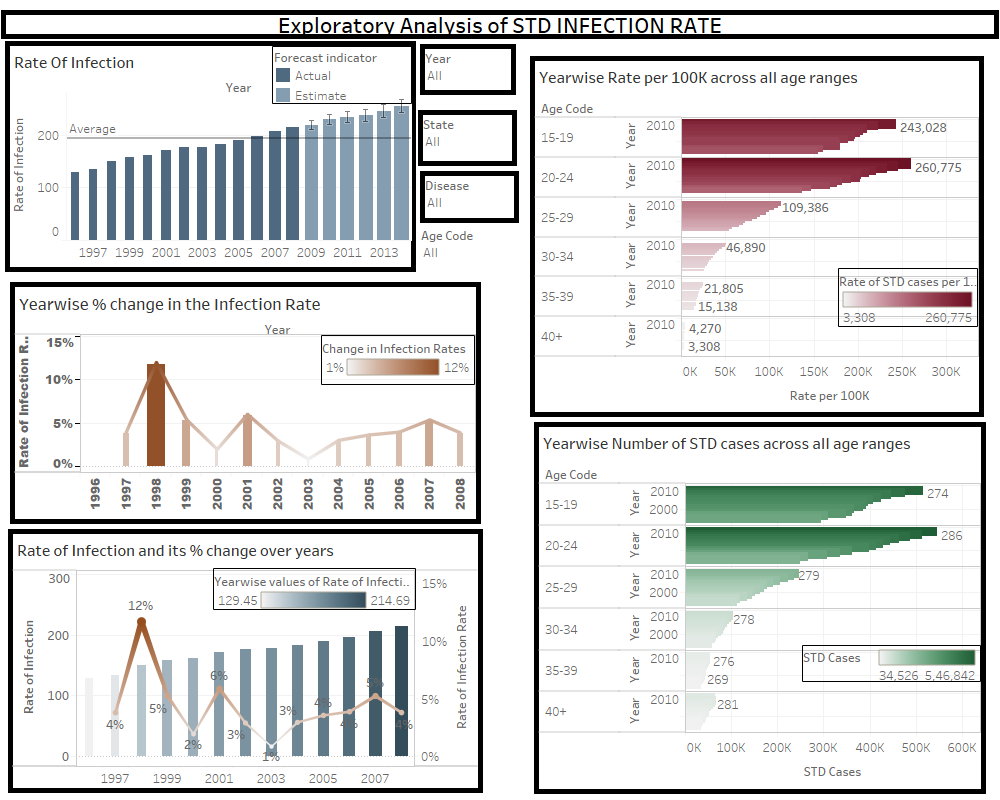

This screenshot's page, from the dashboard's own definition file:
{"tool":"tableau","page":{"name":"Dashboard 2-Explanatory Analysis2","canvas":[1000,800],"ordinal":1},"visuals":[{"type":"text","box":[1,10,998,29]},{"type":"worksheet","title":"Rate Of Infection","mark":"Bar","rows":["Calculation_776589499331907587"],"cols":["Year"],"box":[5,41,411,231]},{"type":"filter","title":"Rate Of Infection","param":"[federated.0xqixnj0r6fqj91d3btuv1f5p7yg].[none:Year:ok]","box":[420,44,96,51]},{"type":"legend","title":"Rate Of Infection","param":"[federated.0xqixnj0r6fqj91d3btuv1f5p7yg].[none:Forecast Indicator:nk]","box":[272,46,140,58]},{"type":"worksheet","title":"Yearwise Rate per 100K across all age ranges","mark":"Bar","rows":["Age Code","Year"],"cols":["Rate per 100K"],"box":[530,56,454,361]},{"type":"filter","title":"Rate Of Infection","param":"[federated.0xqixnj0r6fqj91d3btuv1f5p7yg].[none:State:nk]","box":[418,110,99,56]},{"type":"filter","title":"Rate Of Infection","param":"[federated.0xqixnj0r6fqj91d3btuv1f5p7yg].[none:Disease:nk]","box":[420,171,99,52]},{"type":"filter","title":"Yearwise Rate per 100K across all age ranges","param":"[federated.0xqixnj0r6fqj91d3btuv1f5p7yg].[none:Age Code:nk]","box":[421,226,98,44]},{"type":"legend","title":"Yearwise Rate per 100K across all age ranges","param":"[federated.0xqixnj0r6fqj91d3btuv1f5p7yg].[sum:Rate per 100K:qk]","box":[838,268,140,59]},{"type":"worksheet","title":"Yearwise % change in the Infection Rate","mark":"Automatic","rows":["Calculation_776589499338305542","Calculation_776589499338305542"],"cols":["Year"],"box":[10,282,471,242]},{"type":"legend","title":"Yearwise % change in the Infection Rate","param":"[federated.0xqixnj0r6fqj91d3btuv1f5p7yg].[usr:Calculation_776589499338305542:qk]","box":[321,335,154,50]},{"type":"worksheet","title":"Yearwise Number of STD cases across all age ranges","mark":"Bar","rows":["Age Code","Year"],"cols":["STD Cases"],"box":[534,422,452,372]},{"type":"worksheet","title":"Rate of Infection and its % change over years","mark":"Line","rows":["Calculation_776589499331907587","Calculation_776589499338305542"],"cols":["Year"],"box":[8,529,475,264]},{"type":"legend","title":"Rate of Infection and its % change over years","param":"[federated.0xqixnj0r6fqj91d3btuv1f5p7yg].[usr:Calculation_776589499331907587:qk]","box":[213,568,203,42]},{"type":"legend","title":"Yearwise Number of STD cases across all age ranges","param":"[federated.0xqixnj0r6fqj91d3btuv1f5p7yg].[sum:STD Cases:qk]","box":[802,645,179,37]}]}

Visuals, with their boxes in screenshot pixels (x1, y1, x2, y2), scaled from the page's 1000x800 canvas onto the 1000x800 screenshot:
text: bbox(1, 10, 999, 39)
"Rate Of Infection" worksheet (Bar marks): bbox(5, 41, 416, 272)
"Rate Of Infection" filter: bbox(420, 44, 516, 95)
"Rate Of Infection" legend: bbox(272, 46, 412, 104)
"Yearwise Rate per 100K across all age ranges" worksheet (Bar marks): bbox(530, 56, 984, 417)
"Rate Of Infection" filter: bbox(418, 110, 517, 166)
"Rate Of Infection" filter: bbox(420, 171, 519, 223)
"Yearwise Rate per 100K across all age ranges" filter: bbox(421, 226, 519, 270)
"Yearwise Rate per 100K across all age ranges" legend: bbox(838, 268, 978, 327)
"Yearwise % change in the Infection Rate" worksheet: bbox(10, 282, 481, 524)
"Yearwise % change in the Infection Rate" legend: bbox(321, 335, 475, 385)
"Yearwise Number of STD cases across all age ranges" worksheet (Bar marks): bbox(534, 422, 986, 794)
"Rate of Infection and its % change over years" worksheet (Line marks): bbox(8, 529, 483, 793)
"Rate of Infection and its % change over years" legend: bbox(213, 568, 416, 610)
"Yearwise Number of STD cases across all age ranges" legend: bbox(802, 645, 981, 682)
